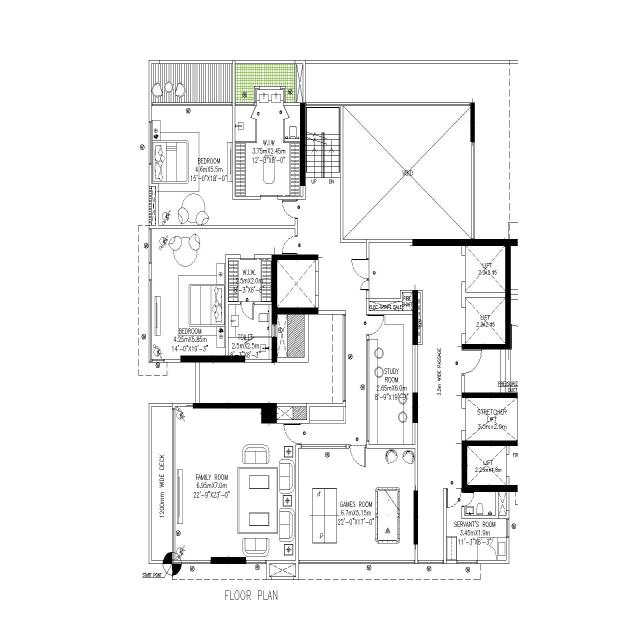Column: (271, 253, 319, 315), (412, 238, 518, 247), (504, 244, 512, 350), (180, 355, 246, 363), (300, 101, 306, 188), (461, 439, 519, 447), (461, 484, 518, 492), (192, 403, 262, 409), (461, 343, 511, 351), (461, 392, 518, 399), (461, 439, 468, 494), (271, 313, 278, 364), (261, 402, 277, 424), (412, 290, 418, 346), (413, 490, 419, 546), (210, 556, 247, 564), (470, 102, 475, 143), (412, 392, 418, 424)
Door: (365, 256, 370, 292), (460, 349, 466, 377), (461, 307, 466, 335), (461, 255, 466, 282), (366, 313, 370, 337), (298, 422, 302, 446), (348, 444, 367, 449), (294, 198, 298, 220), (294, 235, 298, 255), (446, 487, 462, 491), (461, 492, 465, 508), (240, 301, 254, 305), (255, 105, 258, 120), (283, 105, 285, 121)
Sliding Door: (260, 194, 302, 200)
Staircase: (305, 105, 341, 200)
Ventilator: (271, 324, 278, 338)
Window: (298, 559, 416, 565), (171, 407, 175, 562), (342, 314, 347, 402), (366, 338, 370, 442), (148, 279, 152, 363), (151, 102, 233, 106), (172, 559, 212, 565), (300, 444, 348, 449), (148, 120, 152, 166), (418, 559, 444, 565), (148, 228, 152, 264), (280, 85, 286, 104), (254, 85, 260, 103), (245, 560, 267, 564), (456, 560, 478, 564), (234, 102, 255, 106), (151, 359, 165, 363)
